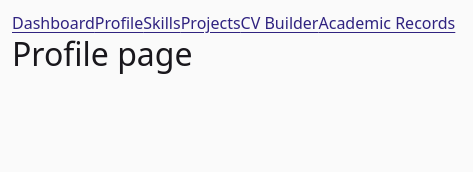
Scenario: RootLayout › keeps the protected student shell mounted across nested route transitions
The width and height of the screenshot is (473, 172).
Click the link "Dashboard" at [53, 23], box [12, 12, 95, 34]
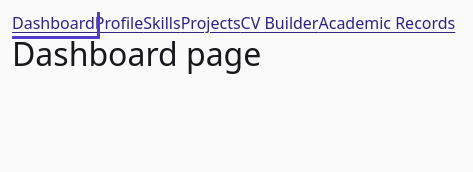
Expected: the heading "Dashboard page" is shown, [12, 32, 261, 75]
